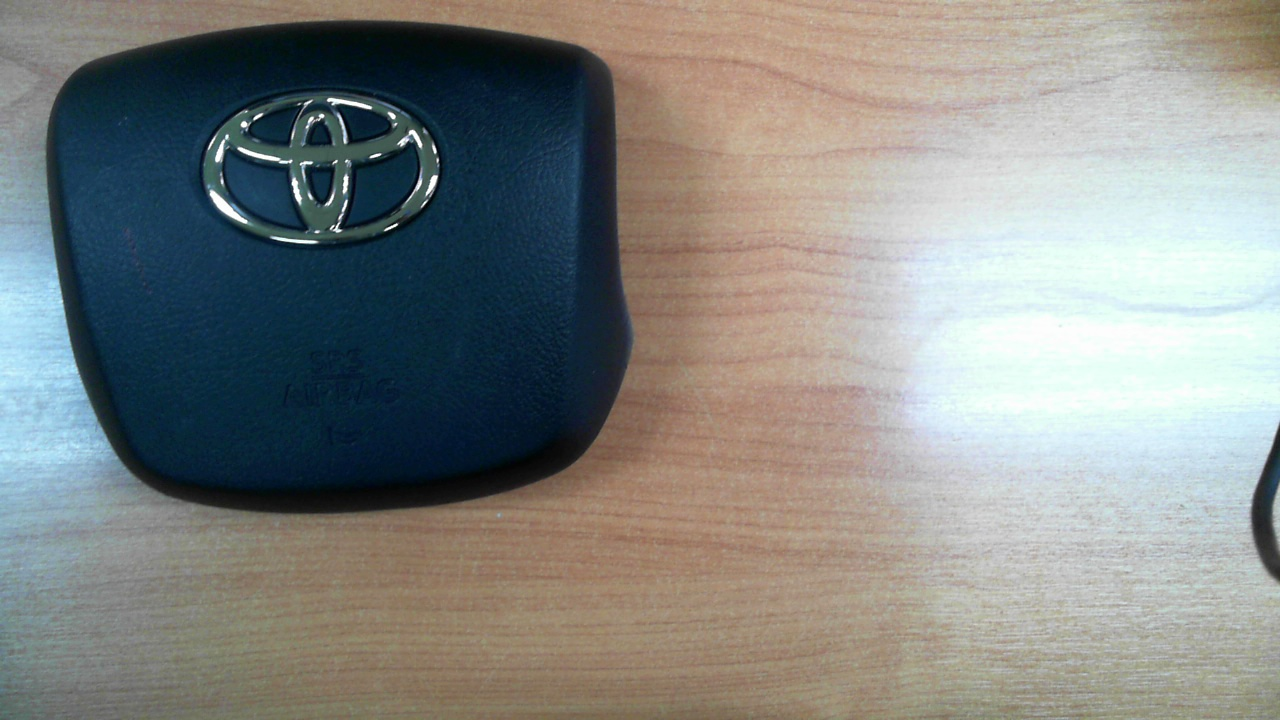Airbag: (43, 18, 634, 507)
Toyota: (202, 91, 441, 245)
